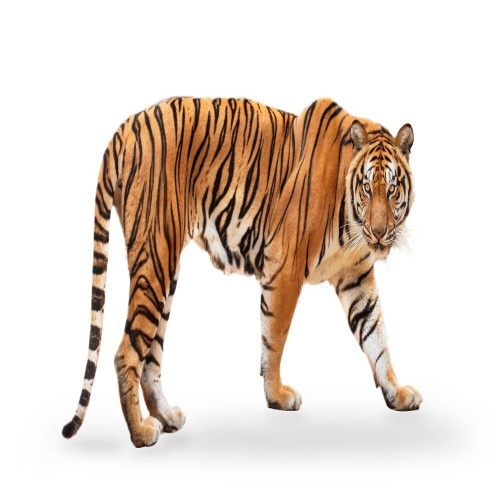tiger: (26, 27, 418, 500)
